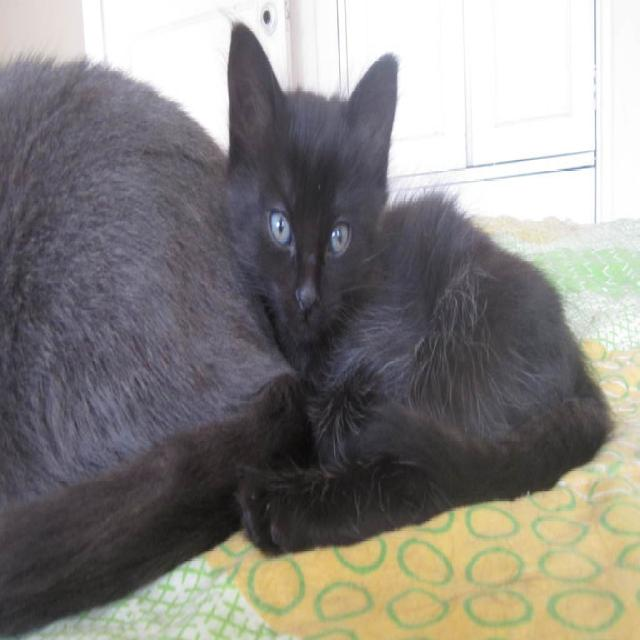Cat: (222, 11, 616, 561)
